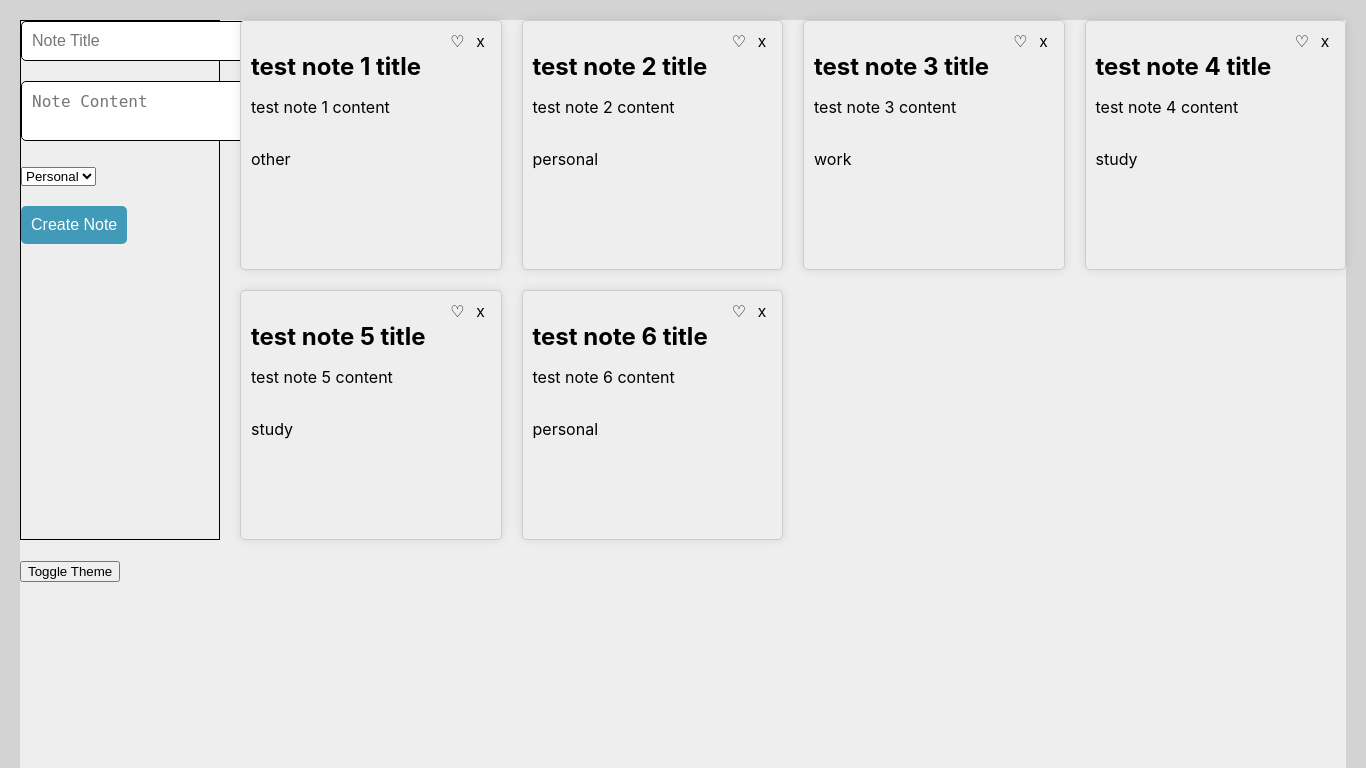
Test case: Create StickyNote › delete a note
Click the 1st button "x" at (480, 42), box [470, 31, 490, 52]
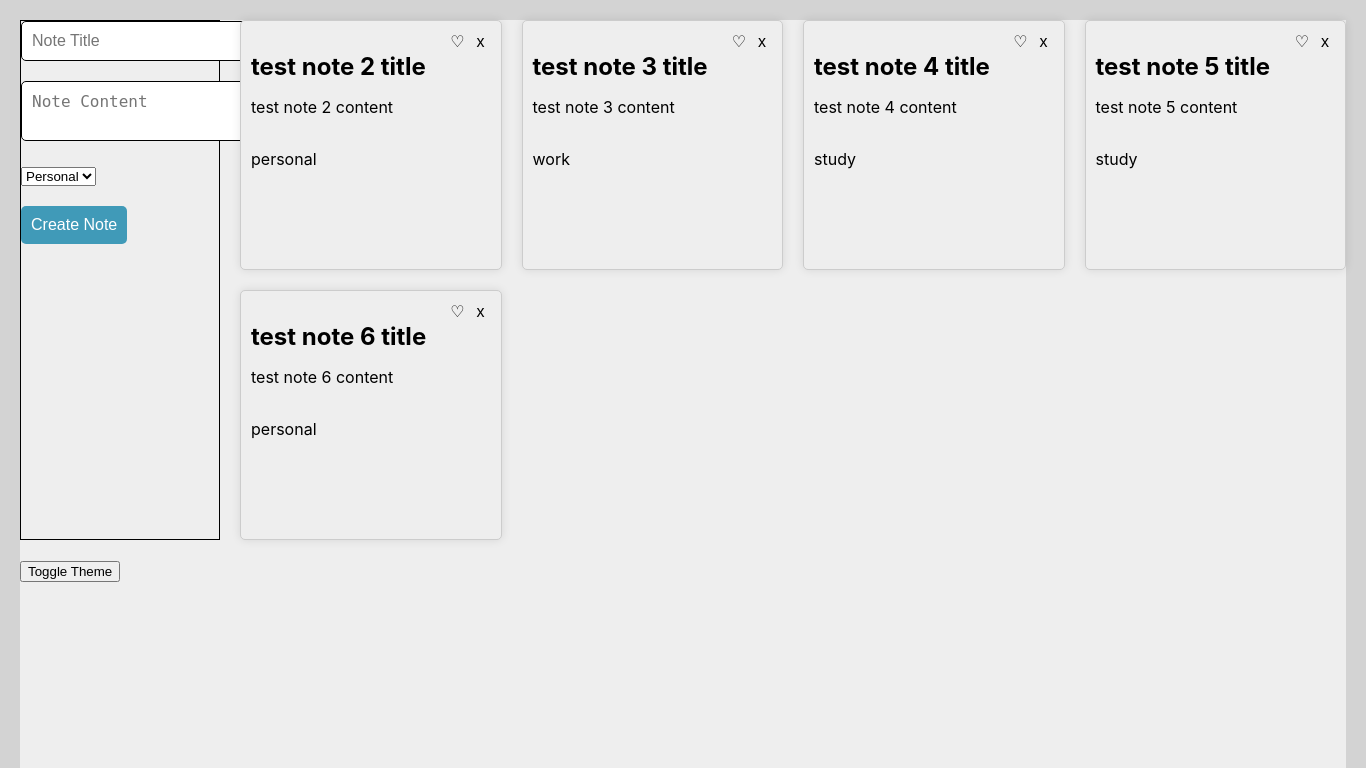
Now the heading "test note 1 title" is gone
Now the text box "test note 1 content" is gone
Now the text box "other" is gone
